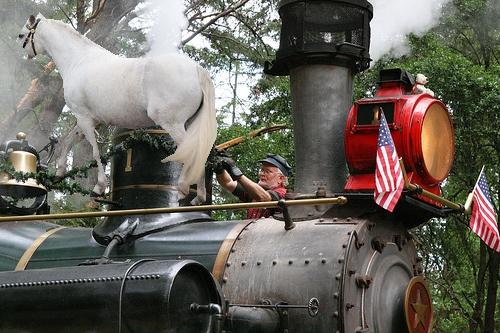tampered: (17, 13, 217, 206)
